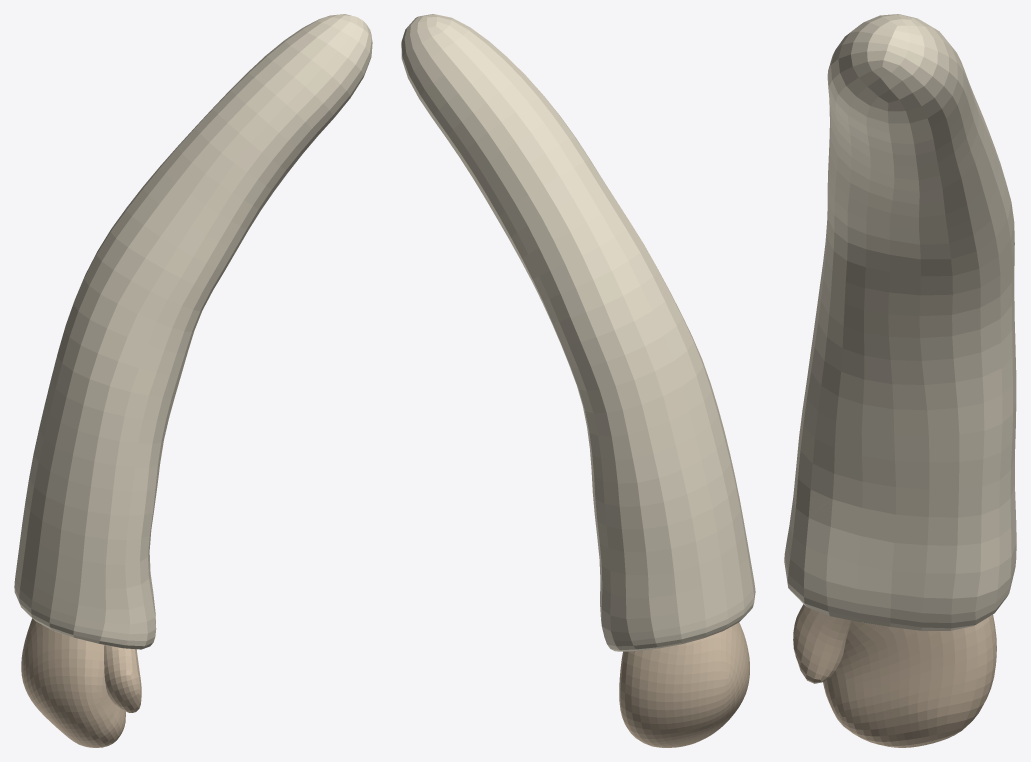
Rendered from GregBrazoDer.obj.
3 views of the same model, side by side, from view 1: azimuth 30°, elevation 25°; view 2: azimuth 150°, elevation 25°; view 3: azimuth 270°, elevation 25° (orthographic). The views are drawn at different scales.
Visible parts, largest first — view 1: greg2_greg2_polySurface1; view 2: greg2_greg2_polySurface1; view 3: greg2_greg2_polySurface1.
Part boxes in pixels (x1,y1,x2,y2): greg2_greg2_polySurface1: (14,14,372,747); greg2_greg2_polySurface1: (401,14,755,747); greg2_greg2_polySurface1: (784,14,1016,747).
Bounding box in the file's own units: 0.841 × 1.58 × 0.3794.
